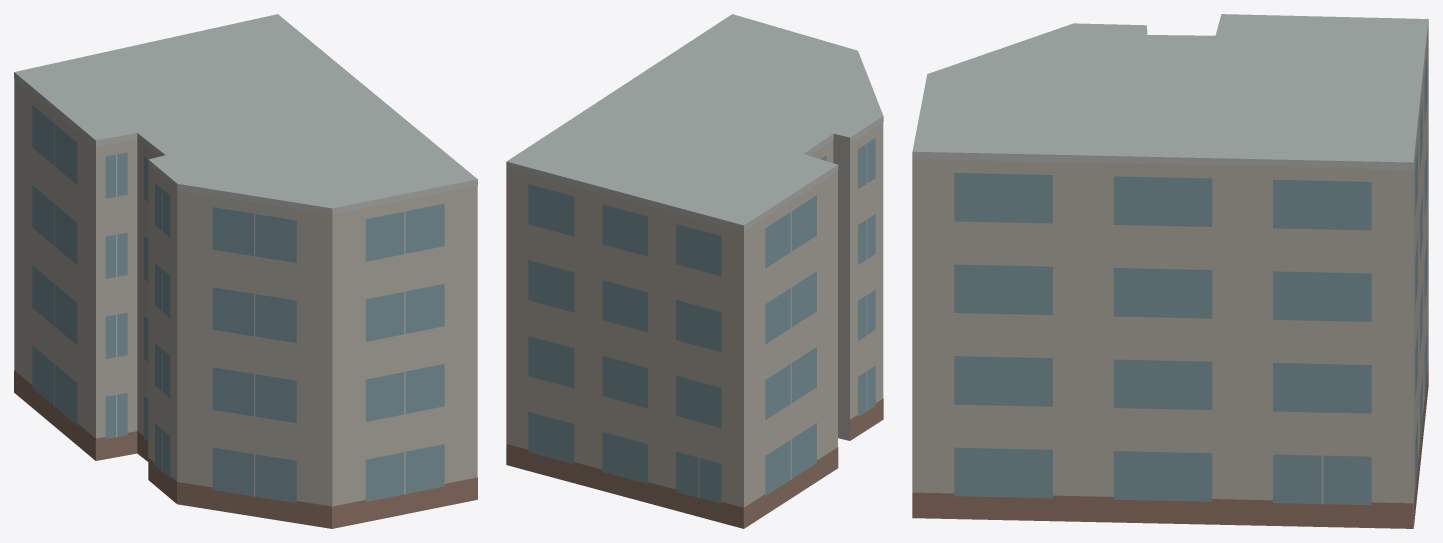
Rendered from survey-upis-32643648.glb.
3 views of the same model, side by side, from view 1: azimuth 30°, elevation 25°; view 2: azimuth 150°, elevation 25°; view 3: azimuth 270°, elevation 25° (orthographic). The views are drawn at different scales.
Parts seen in each view (by area): view 1: survey-upis-32643648.tmp; view 2: survey-upis-32643648.tmp; view 3: survey-upis-32643648.tmp.
Boxes of the visible parts, box(x1,y1,x2,y2) form: survey-upis-32643648.tmp: box(14, 14, 477, 528); survey-upis-32643648.tmp: box(506, 14, 883, 528); survey-upis-32643648.tmp: box(912, 14, 1428, 528).
Size of the model in its own units: 10.61 by 12.2 by 15.58.
